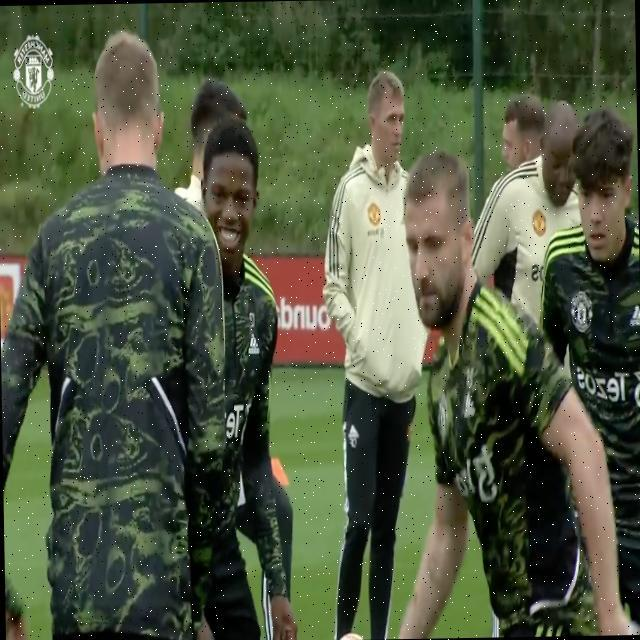Adidas: (461, 390, 475, 422), (248, 331, 261, 358), (629, 301, 640, 328)
